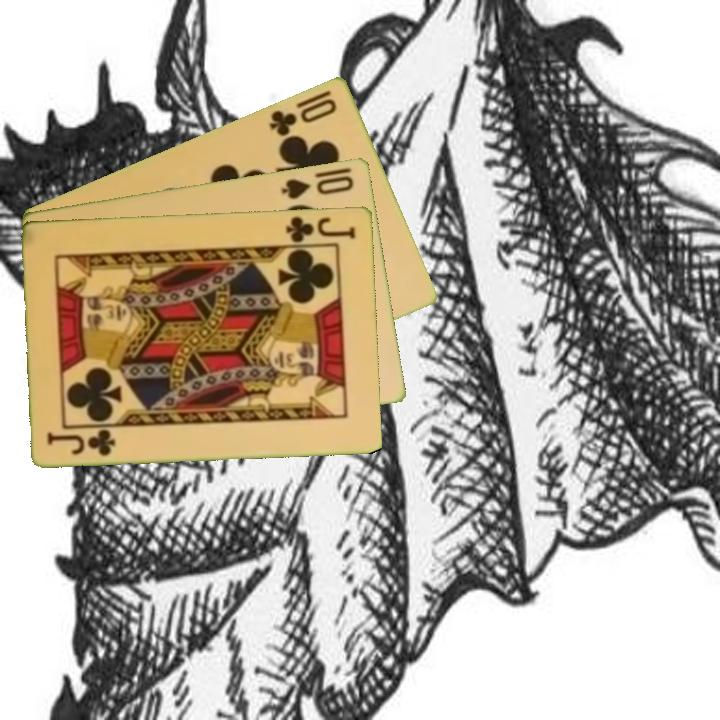10c: (266, 94, 340, 139)
10s: (278, 171, 357, 202)
Jc: (283, 212, 359, 245), (44, 426, 119, 458)
